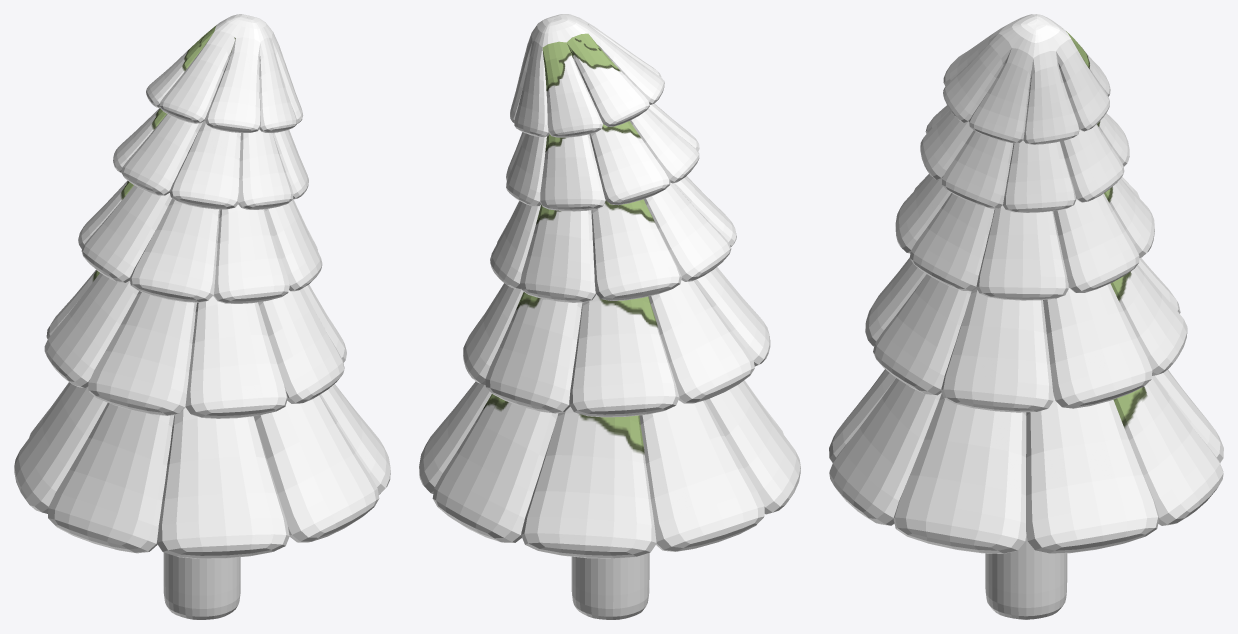
The model's file is tree1.fbx.
3 renders of one model, left to right at view 1: azimuth 30°, elevation 25°; view 2: azimuth 150°, elevation 25°; view 3: azimuth 270°, elevation 25°, orthographic. The views are drawn at different scales.
Parts seen in each view (by area): view 1: Cube, Цилиндр; view 2: Cube, Цилиндр; view 3: Cube, Цилиндр.
Part boxes in pixels (x1,y1,x2,y2): Cube: (14, 14, 390, 558); Цилиндр: (163, 552, 240, 619); Cube: (419, 14, 800, 558); Цилиндр: (571, 553, 649, 619); Cube: (829, 14, 1223, 553); Цилиндр: (985, 534, 1067, 619).
Size of the model in its own units: 475 by 810 by 474.
